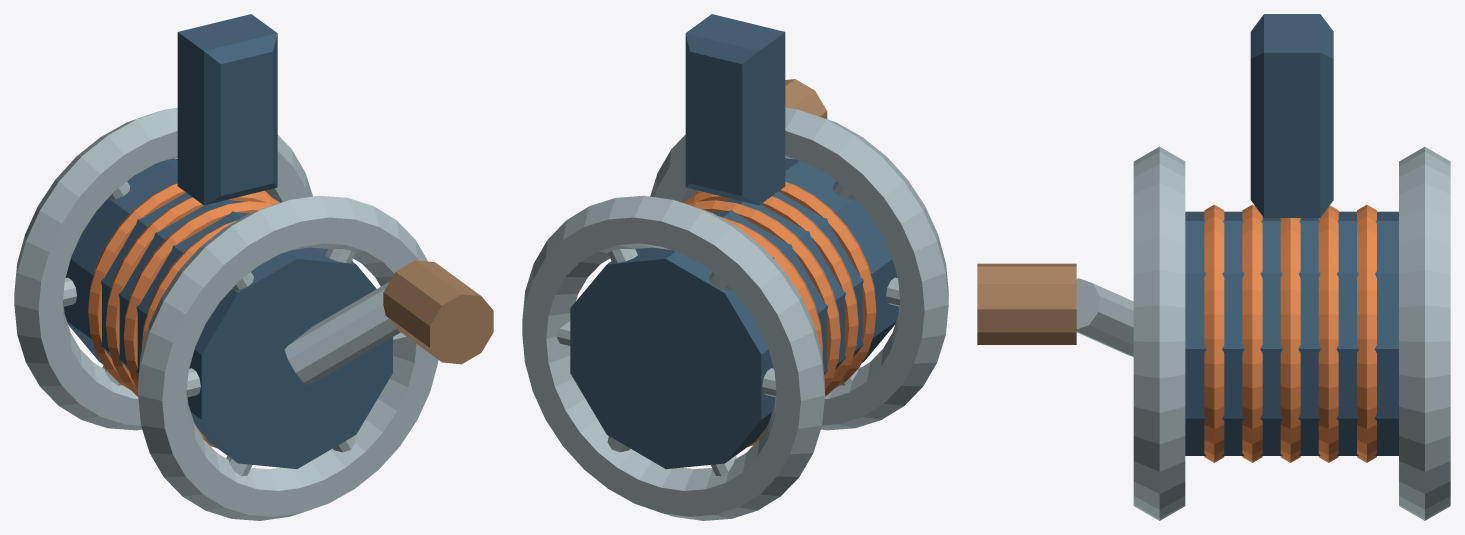
The model's file is harbor-and-tackle-spinning-reel-4d38fd8f__19567.glb.
3 renders of one model, left to right at view 1: azimuth 30°, elevation 25°; view 2: azimuth 150°, elevation 25°; view 3: azimuth 270°, elevation 25°, orthographic. The views are drawn at different scales.
Parts seen in each view (by area): view 1: metal, navy, orange, cedar; view 2: metal, navy, orange, cedar; view 3: navy, metal, orange, cedar.
Boxes of the visible parts, x1,y1,x2,y2 form: metal: (14, 107, 438, 520); navy: (64, 14, 392, 468); orange: (88, 183, 353, 447); cedar: (383, 260, 493, 364); metal: (522, 107, 948, 520); navy: (570, 14, 898, 468); orange: (683, 181, 876, 446); cedar: (785, 79, 827, 158); navy: (1185, 14, 1398, 455); metal: (1076, 146, 1450, 520); orange: (1204, 204, 1376, 462); cedar: (977, 263, 1076, 344).
Bounding box in the file's own units: 0.226 × 0.313 × 0.2856.
